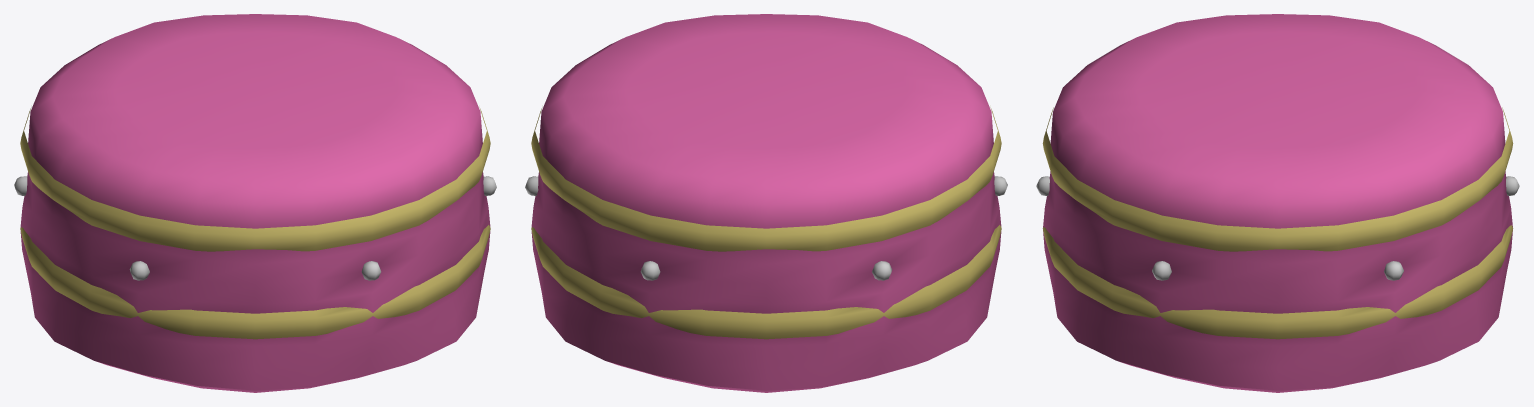
The model's file is pillow_bumper.glb.
3 views of the same model, side by side, from view 1: azimuth 30°, elevation 25°; view 2: azimuth 150°, elevation 25°; view 3: azimuth 270°, elevation 25° (orthographic).
Visible parts, largest first — view 1: pillow_bumper; view 2: pillow_bumper; view 3: pillow_bumper.
Boxes of the visible parts, box(x1,y1,x2,y2) form: pillow_bumper: box(14, 14, 496, 392); pillow_bumper: box(525, 14, 1007, 392); pillow_bumper: box(1036, 14, 1519, 392).
Bounding box in the file's own units: 2 × 1 × 2.06.
